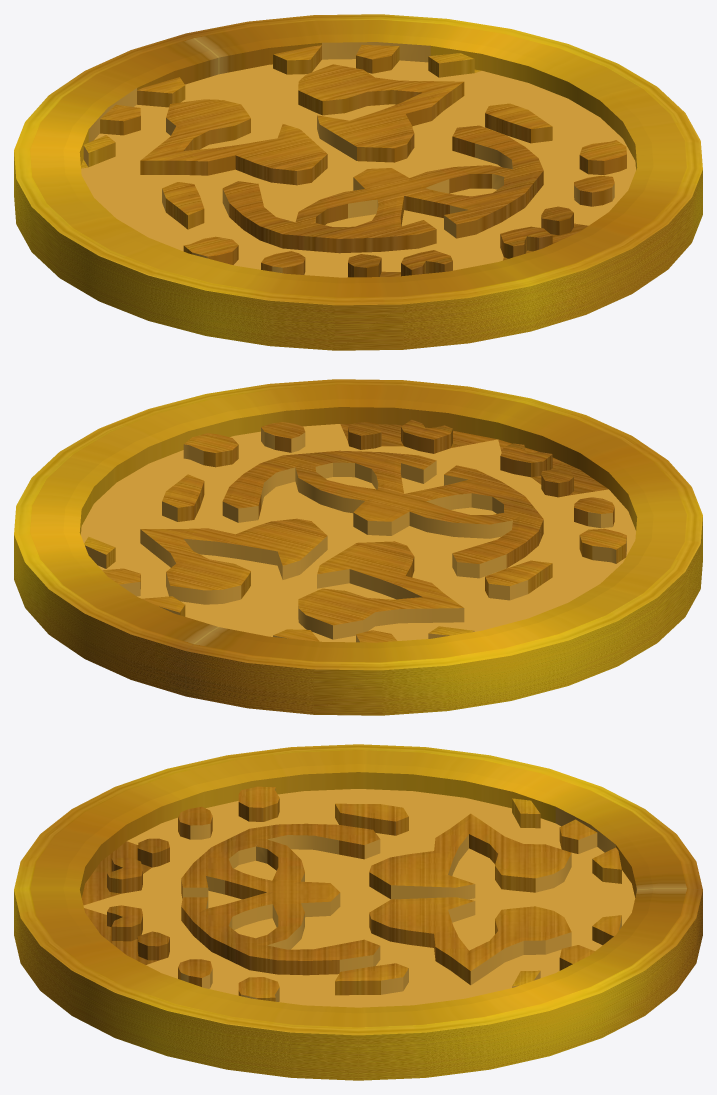
File: SM_Coin_01(Yoris).fbx
3 renders of one model, top to bottom at view 1: azimuth 30°, elevation 25°; view 2: azimuth 150°, elevation 25°; view 3: azimuth 270°, elevation 25°, orthographic.
Parts seen in each view (by area): view 1: M_Coin_01; view 2: M_Coin_01; view 3: M_Coin_01.
Part boxes in pixels (box(x1,y1,x2,y2)): M_Coin_01: box(14, 14, 702, 350); M_Coin_01: box(14, 379, 702, 715); M_Coin_01: box(14, 744, 702, 1080).
Size of the model in its own units: 4600 by 350 by 4600.
2 materials, 1 textured.
